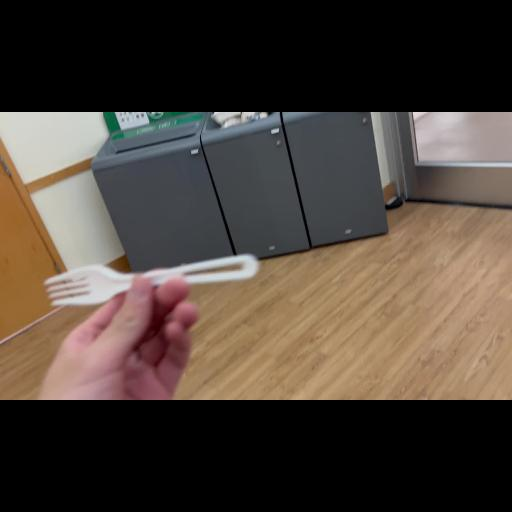utensil: (45, 250, 257, 308)
